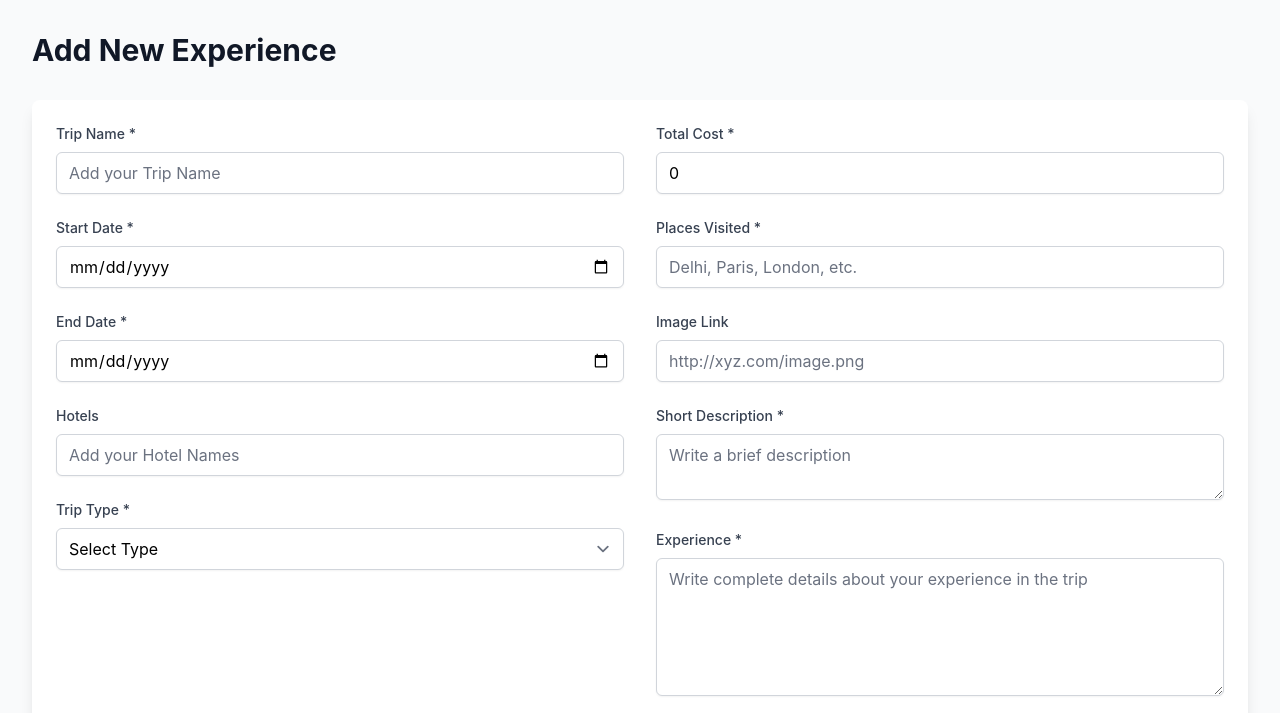
AddExperience Component › validates date range
The width and height of the screenshot is (1280, 713).
Type "2025-03-24" into the date field labelled "Start Date *" at (340, 267), box [56,246,624,288]
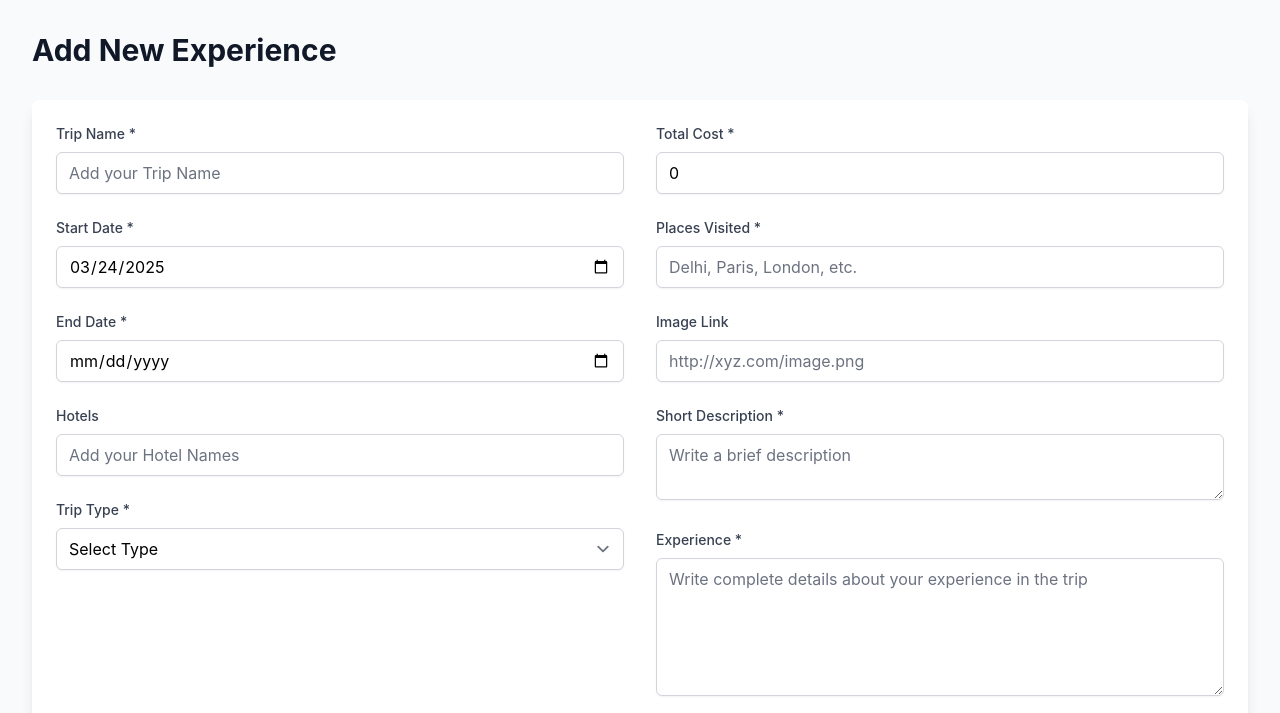
Type "2025-03-23" into the date field labelled "End Date *" at (340, 361), box [56,340,624,382]
(page scrolled)
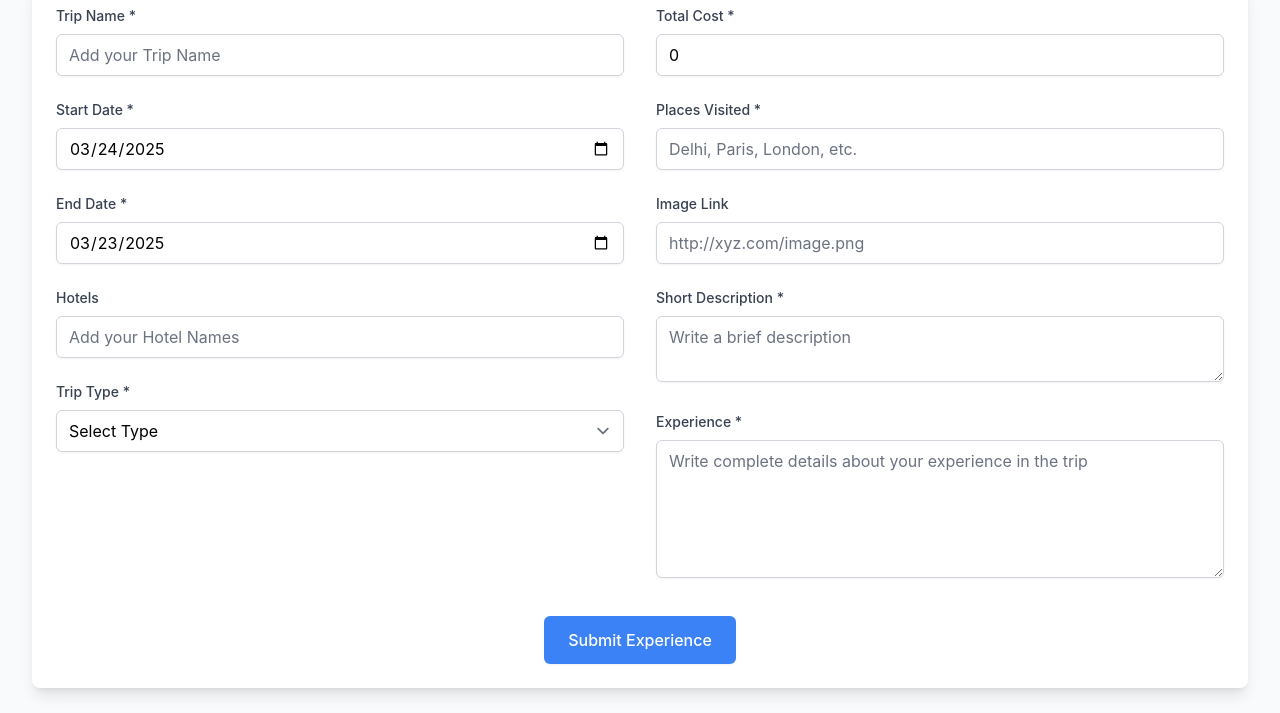
Click the button "Submit Experience" at (640, 640), box [544,616,736,664]
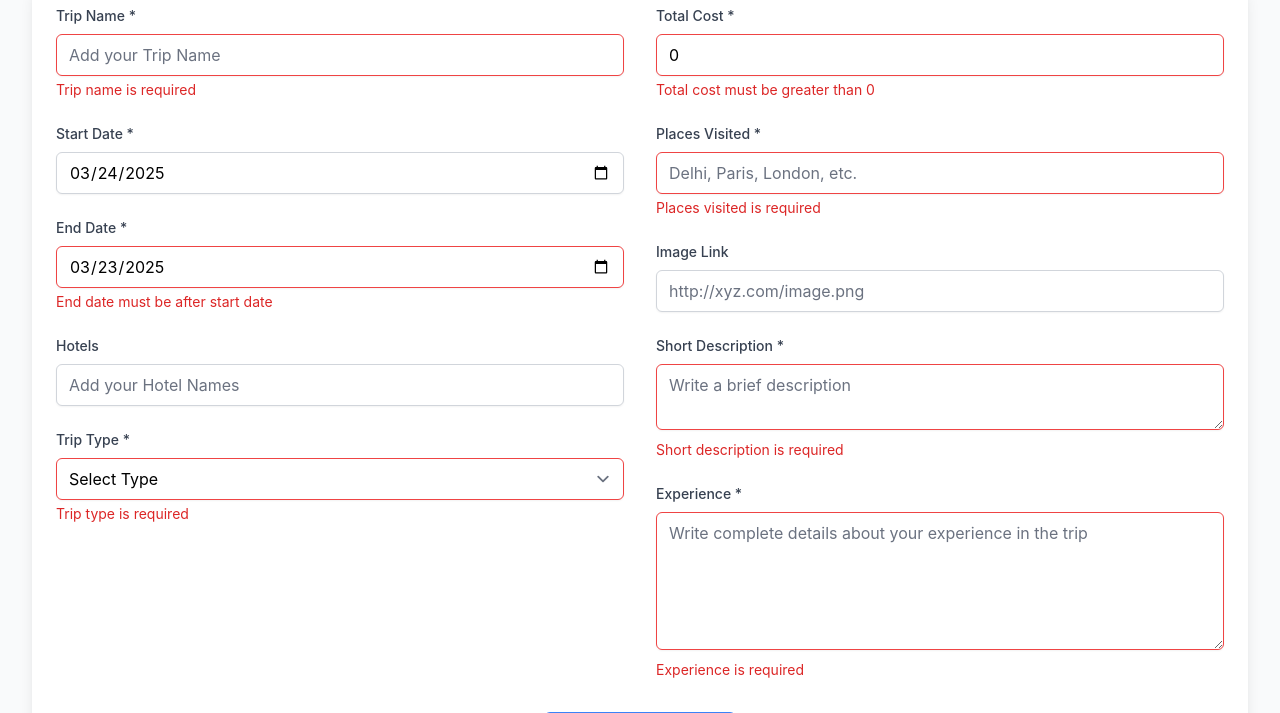
Result: the text "End date must be after start date" is shown at [56,293,273,310]
